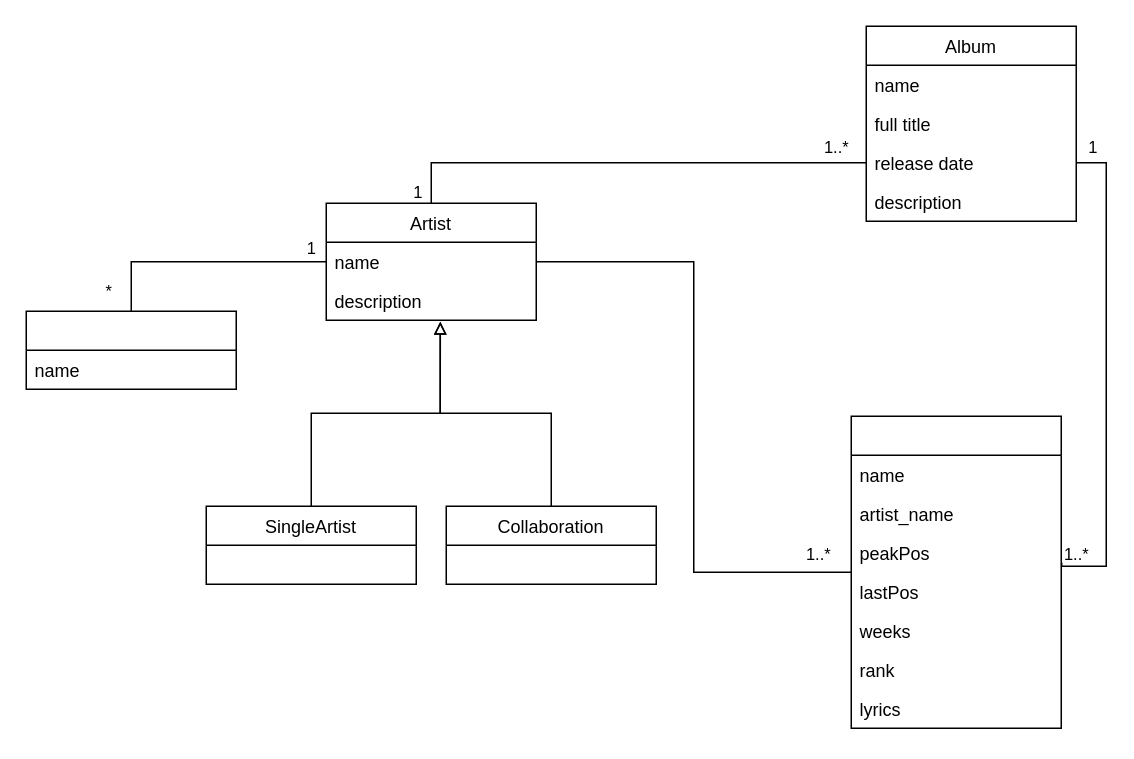
Image size: 1134x759. Some labels were removed from this diagram. Each missing label, with the box of its shape:
Aliases: (25, 310, 236, 389)
Song: (850, 415, 1061, 728)
